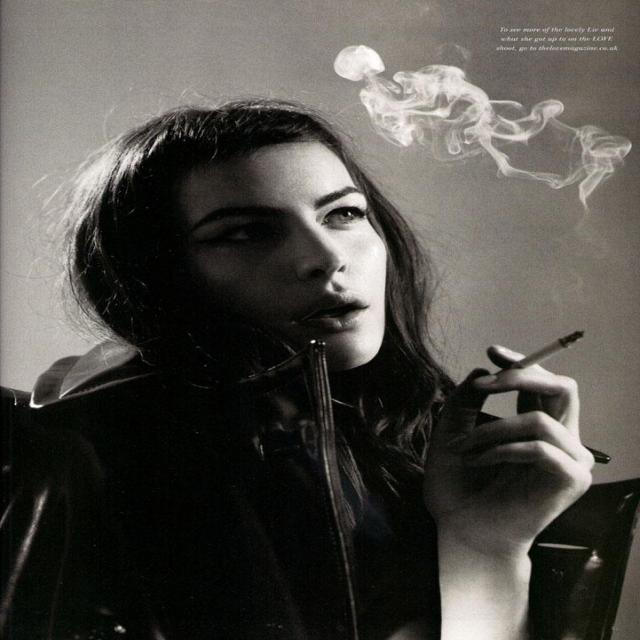Дым: (338, 45, 630, 194)
Сигарета: (495, 331, 588, 374)
Тело: (26, 103, 594, 640)
